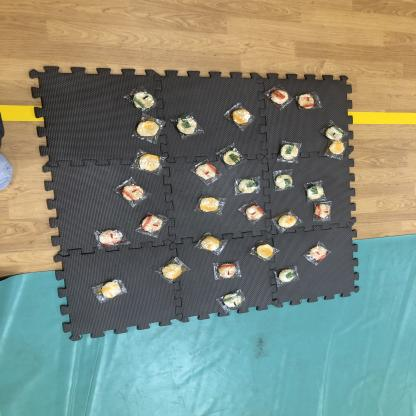green_setoshio: (127, 86, 158, 112), (272, 264, 304, 287), (174, 113, 203, 137), (218, 144, 247, 168), (217, 289, 247, 312), (271, 168, 298, 191), (232, 176, 261, 197), (276, 141, 302, 164), (319, 122, 348, 140), (304, 179, 327, 201)
red_setoshio: (117, 178, 152, 207), (135, 211, 171, 238), (190, 159, 223, 186), (95, 226, 131, 250), (264, 84, 294, 109), (210, 258, 242, 281), (293, 90, 323, 112), (242, 201, 268, 226), (303, 242, 332, 264), (311, 202, 335, 223)
yellow_setoshio: (128, 150, 168, 174), (226, 101, 258, 131), (134, 116, 168, 142), (95, 278, 127, 304), (196, 231, 231, 254), (157, 258, 189, 283), (195, 192, 227, 216), (250, 241, 282, 263), (274, 210, 302, 232), (323, 139, 350, 159)
